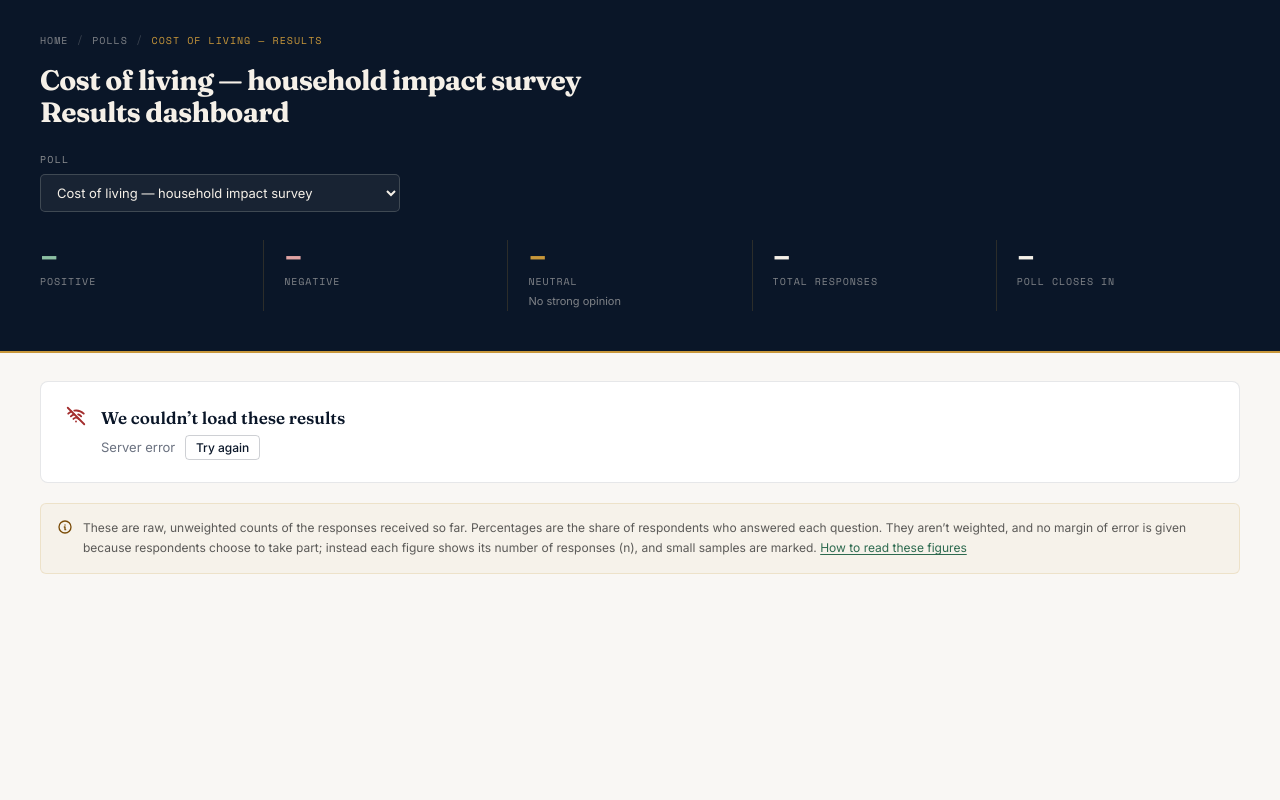
offers a retry when the results can’t load
Expected: the text "We couldn’t load these results" is shown, [101,404,345,431]
Step 1. Click the button "Try again" → [223, 447], box [185,435,260,460]
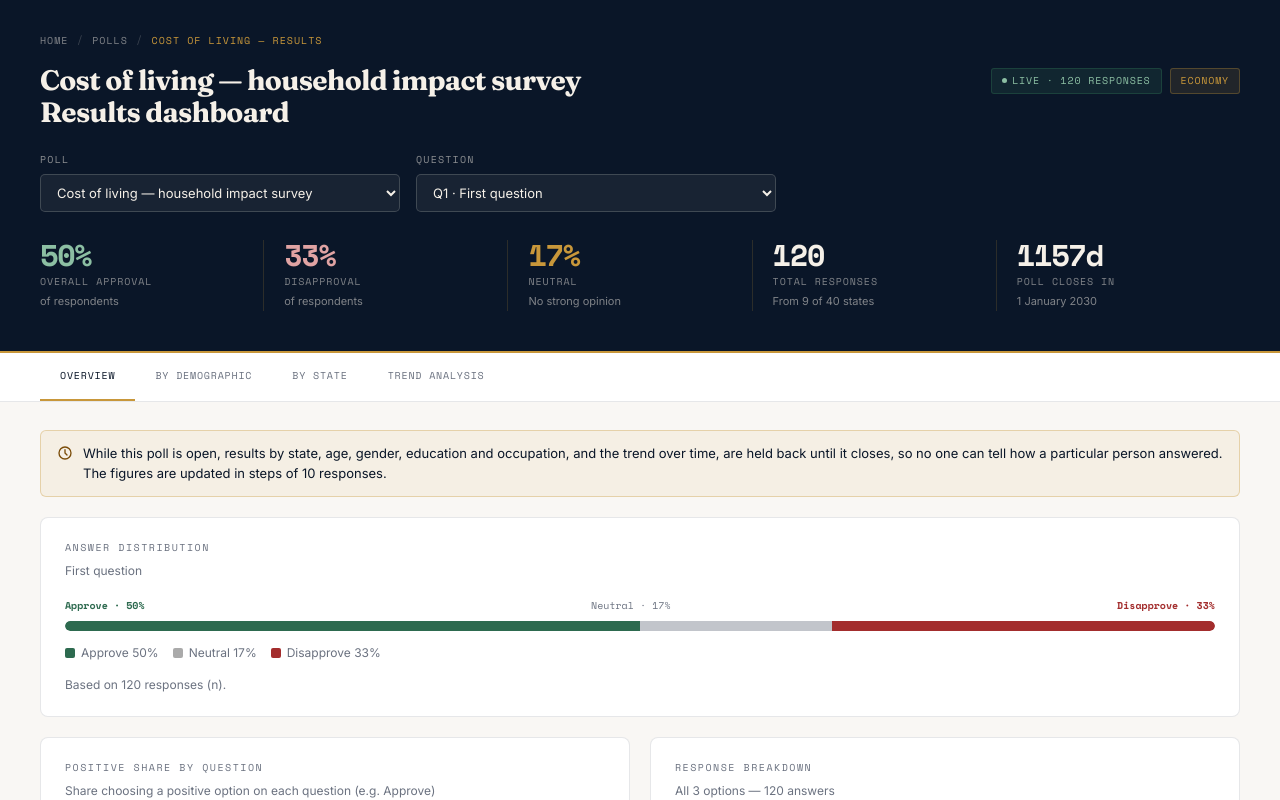
Expected: the element showing "Overview By demographic By state Trend analysis" is shown, [0,353,1279,402]
